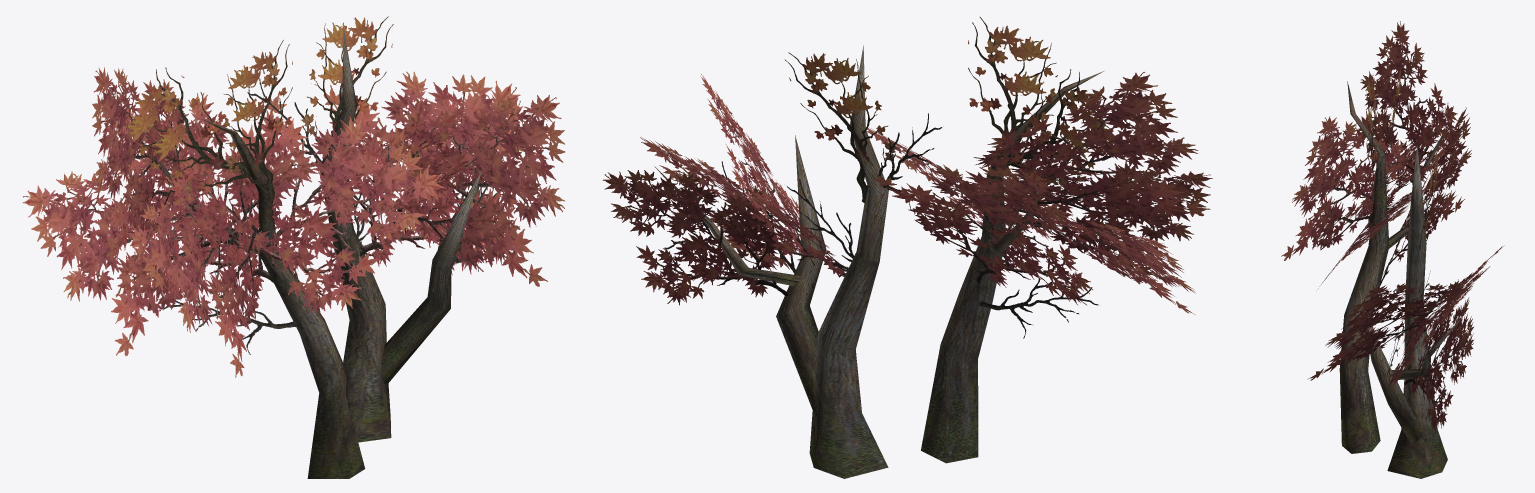
File: yw_shibalipo_dashu02.FBX
3 renders of one model, left to right at view 1: azimuth 30°, elevation 25°; view 2: azimuth 150°, elevation 25°; view 3: azimuth 270°, elevation 25°, orthographic. The views are drawn at different scales.
Visible parts, largest first — view 1: yw_shibalipo_dashu02; view 2: yw_shibalipo_dashu02; view 3: yw_shibalipo_dashu02.
Part boxes in pixels (box(x1,y1,x2,y2)): yw_shibalipo_dashu02: box(22, 16, 565, 478); yw_shibalipo_dashu02: box(602, 17, 1212, 478); yw_shibalipo_dashu02: box(1281, 21, 1504, 478).
Size of the model in its own units: 479 by 381 by 253.
Materials: 1 (1 with a texture image).
